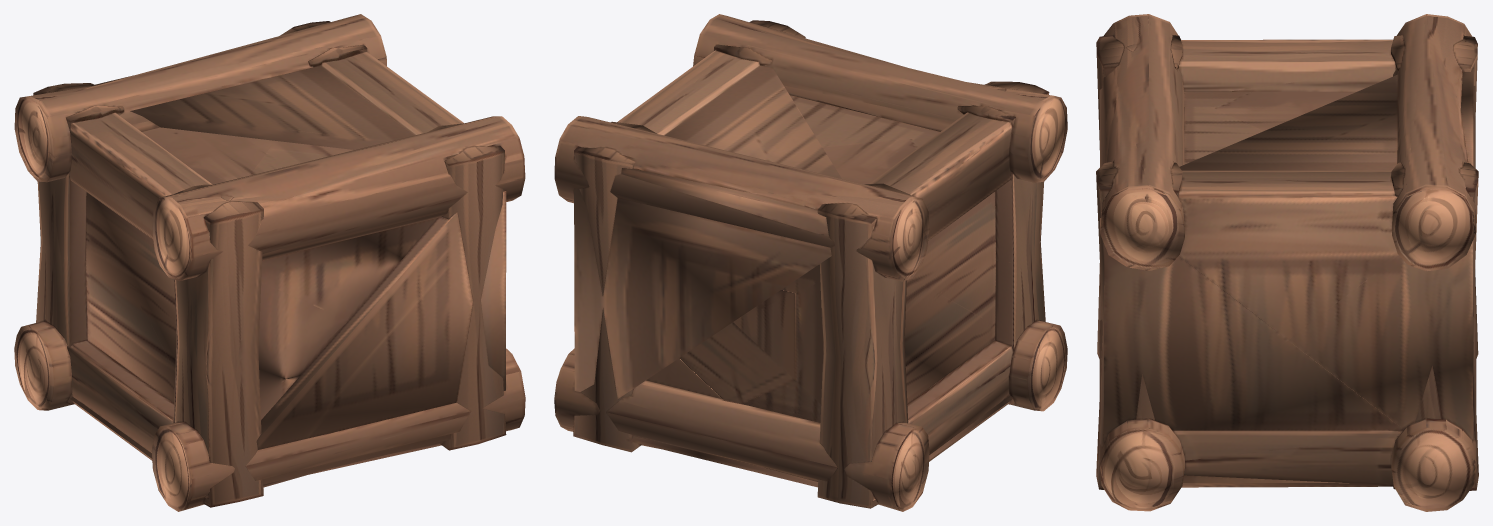
The model's file is meshy-b-600.glb.
3 views of the same model, side by side, from view 1: azimuth 30°, elevation 25°; view 2: azimuth 150°, elevation 25°; view 3: azimuth 270°, elevation 25° (orthographic). The views are drawn at different scales.
Size of the model in its own units: 1 by 0.8847 by 0.9407.
Materials: 1 (1 with a texture image).
